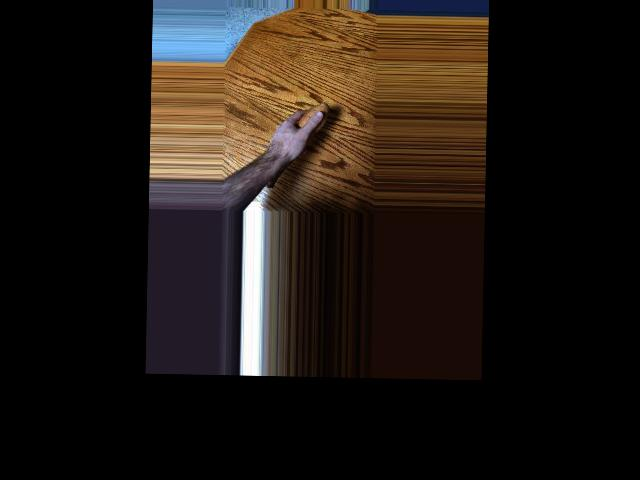sweet_potato: (259, 100, 329, 193)
